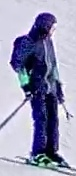skier: (0, 10, 76, 176)
